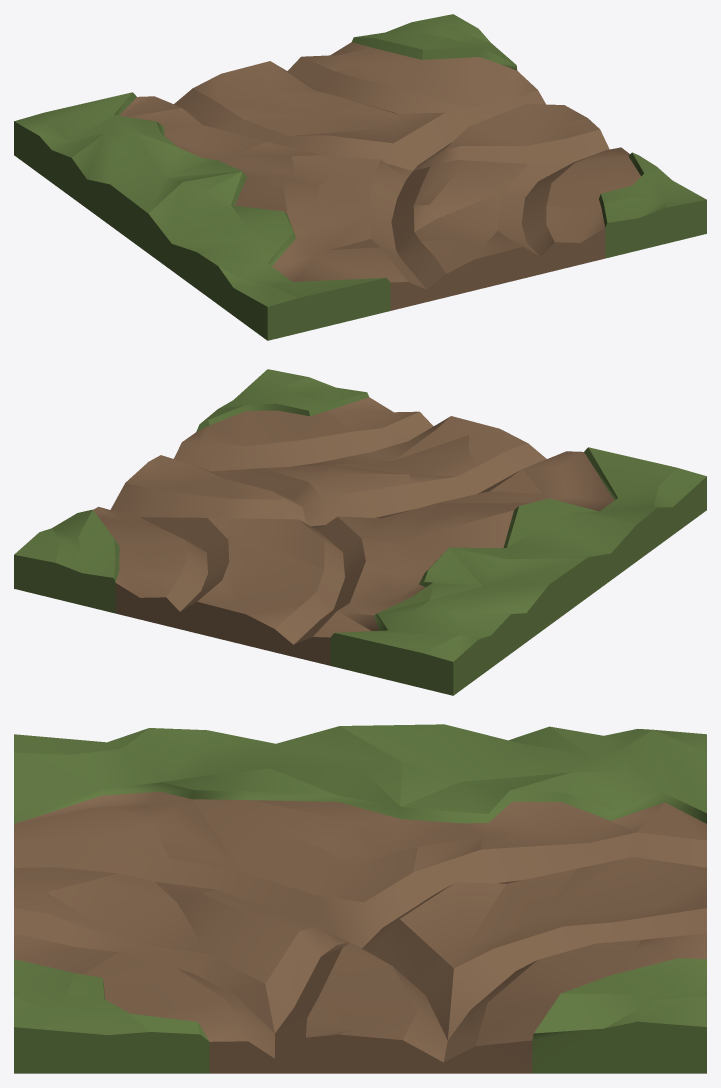
File: Ground_Road_Crossroads_R.glb
3 views of the same model, one above another, from view 1: azimuth 30°, elevation 25°; view 2: azimuth 150°, elevation 25°; view 3: azimuth 270°, elevation 25° (orthographic). The views are drawn at different scales.
Parts seen in each view (by area): view 1: Ground_Road_Crossroads_R; view 2: Ground_Road_Crossroads_R; view 3: Ground_Road_Crossroads_R.
Boxes of the visible parts, x1=… form: Ground_Road_Crossroads_R: x1=14, y1=14, x2=706, y2=340; Ground_Road_Crossroads_R: x1=14, y1=369, x2=706, y2=695; Ground_Road_Crossroads_R: x1=14, y1=724, x2=706, y2=1073.
Bounding box in the file's own units: 1.47 × 0.1477 × 1.47.
